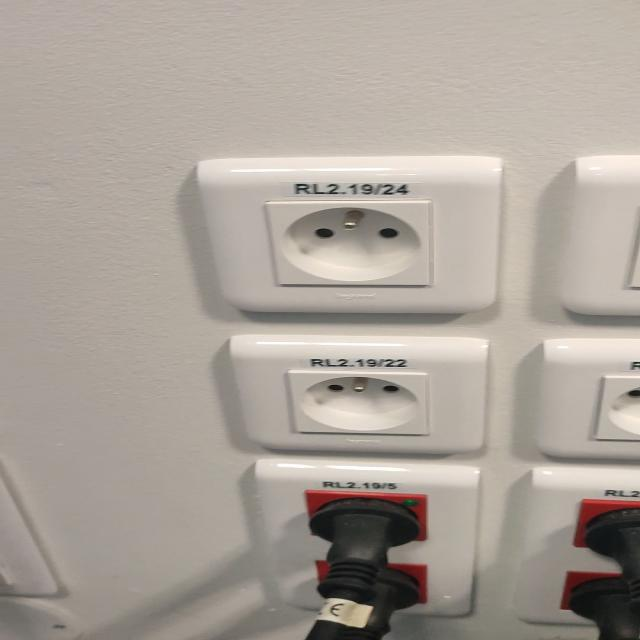house plug: (265, 200, 433, 286), (290, 370, 429, 434)
